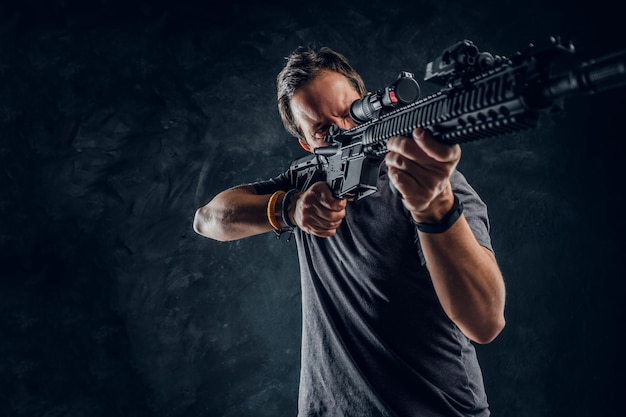gun: (287, 29, 626, 205)
